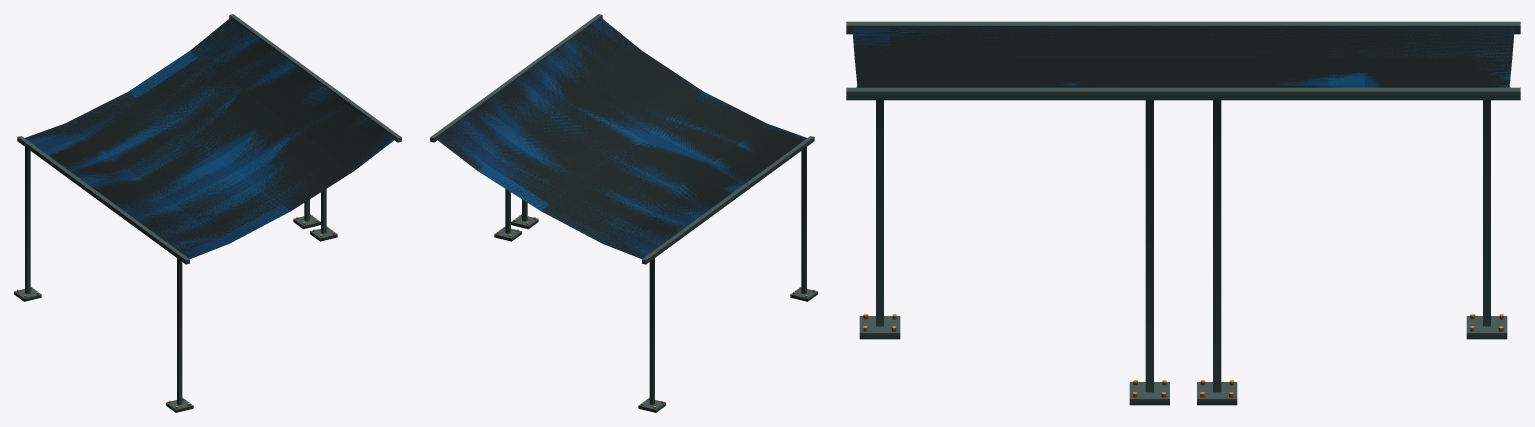
File: Canopy_1D.fbx
3 views of the same model, side by side, from view 1: azimuth 30°, elevation 25°; view 2: azimuth 150°, elevation 25°; view 3: azimuth 270°, elevation 25° (orthographic). The views are drawn at different scales.
Visible parts, largest first — view 1: Canopy_1D; view 2: Canopy_1D; view 3: Canopy_1D.
Boxes of the visible parts, x1=… form: Canopy_1D: x1=14, y1=14, x2=401, y2=412; Canopy_1D: x1=430, y1=14, x2=817, y2=412; Canopy_1D: x1=846, y1=21, x2=1520, y2=405.
Size of the model in its own units: 15.7 by 14.64 by 20.
